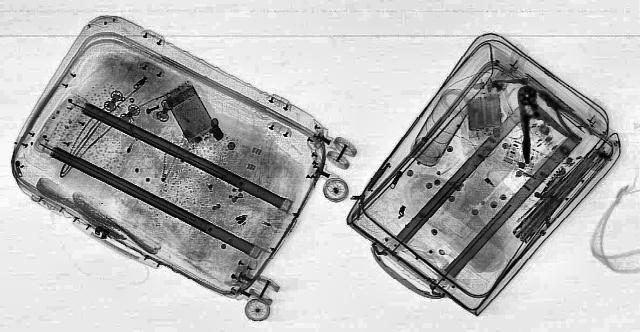Pliers: (494, 84, 588, 162)
